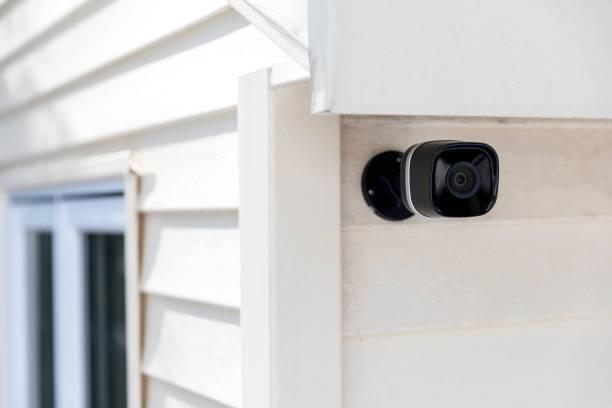camera: (331, 94, 518, 265)
